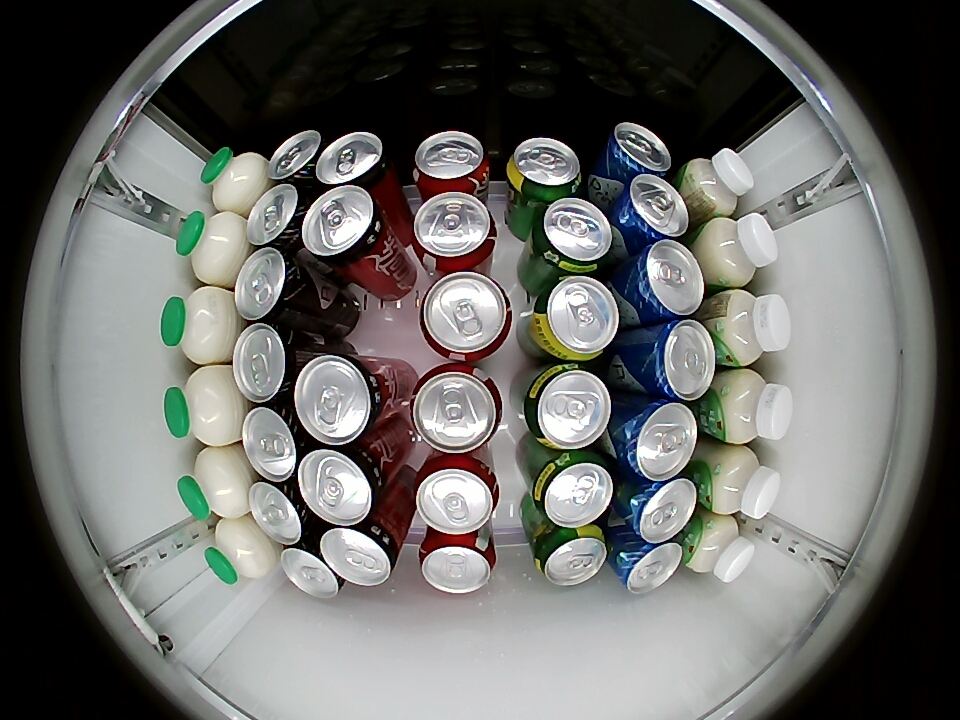kele: (418, 271, 514, 363), (409, 364, 503, 454), (414, 455, 499, 535), (411, 192, 497, 271), (412, 131, 490, 193), (418, 533, 496, 595)
lingdukele: (293, 352, 390, 444), (302, 186, 391, 270), (298, 443, 389, 525), (320, 514, 403, 587), (316, 132, 394, 193)
liziyuan: (164, 366, 243, 447), (160, 286, 237, 366), (178, 446, 252, 523), (176, 210, 247, 286), (205, 516, 275, 586), (201, 146, 269, 214)
qingdaowangzi-1: (232, 324, 303, 402), (234, 249, 308, 323), (241, 403, 306, 481), (249, 479, 314, 544), (246, 184, 308, 250), (280, 538, 344, 599), (267, 131, 325, 187)
qingdaowangzi-2: (614, 398, 699, 481), (634, 320, 717, 401), (624, 240, 705, 321), (614, 174, 690, 245), (621, 475, 699, 543), (613, 535, 684, 594), (603, 122, 673, 179)
xuebi2: (527, 275, 620, 362), (520, 363, 612, 450), (528, 450, 615, 528), (528, 198, 614, 275), (506, 137, 583, 202), (531, 525, 608, 586)
yousuanru: (715, 289, 791, 367), (699, 213, 778, 288), (714, 369, 793, 444), (705, 445, 781, 520), (681, 148, 754, 219), (685, 514, 755, 582)
